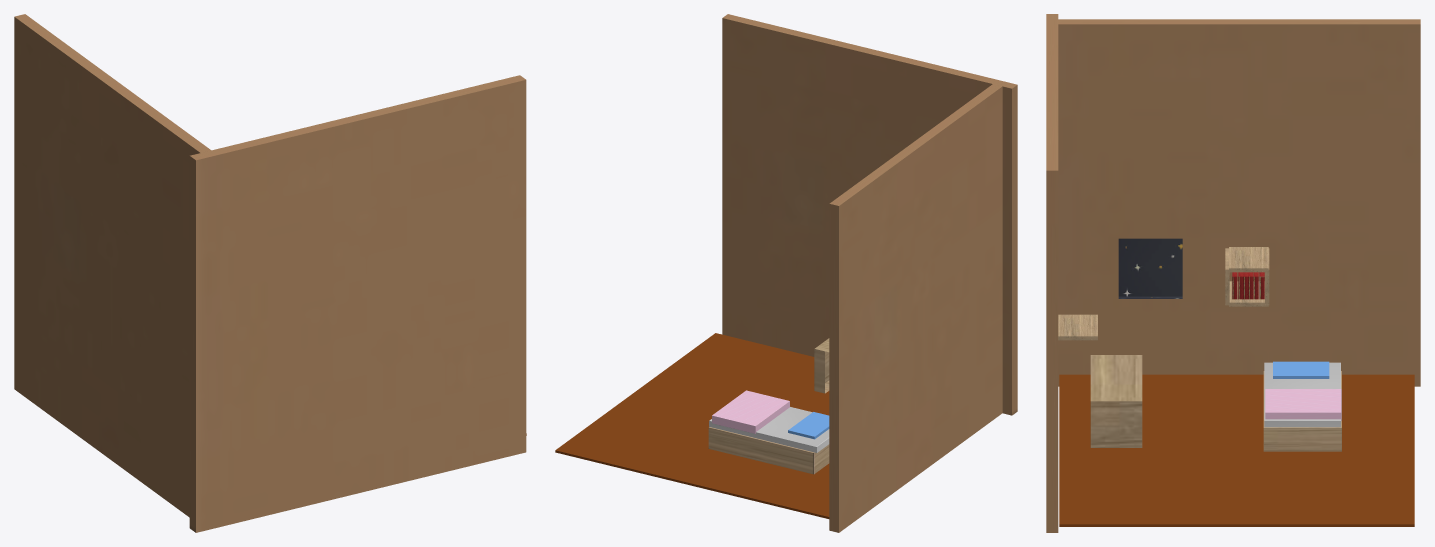
The model's file is OPENGL.gltf.
3 renders of one model, left to right at view 1: azimuth 30°, elevation 25°; view 2: azimuth 150°, elevation 25°; view 3: azimuth 270°, elevation 25°, orthographic. The views are drawn at different scales.
Visible parts, largest first — view 1: Cube.002; view 2: Cube.002; view 3: Cube.002.
Boxes of the visible parts, x1=… form: Cube.002: x1=14, y1=14, x2=526, y2=532; Cube.002: x1=555, y1=14, x2=1017, y2=532; Cube.002: x1=1046, y1=14, x2=1420, y2=532.
Size of the model in its own units: 13.5 by 14.24 by 13.35.
1 material, 1 textured.
